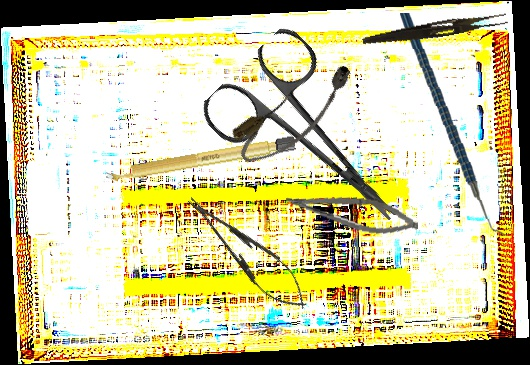Cannula: (226, 56, 367, 174)
Chopper: (399, 8, 511, 241)
Dressing Forceps: (361, 8, 509, 52)
Iris Scissors: (194, 22, 436, 265)
Micro Scissor: (283, 186, 421, 241)
Needle Holder: (176, 184, 319, 321)
Scalpel Handle: (104, 135, 296, 184)
